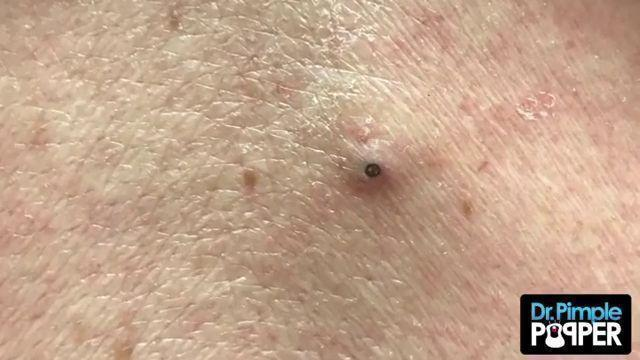blackhead: (338, 138, 407, 200)
